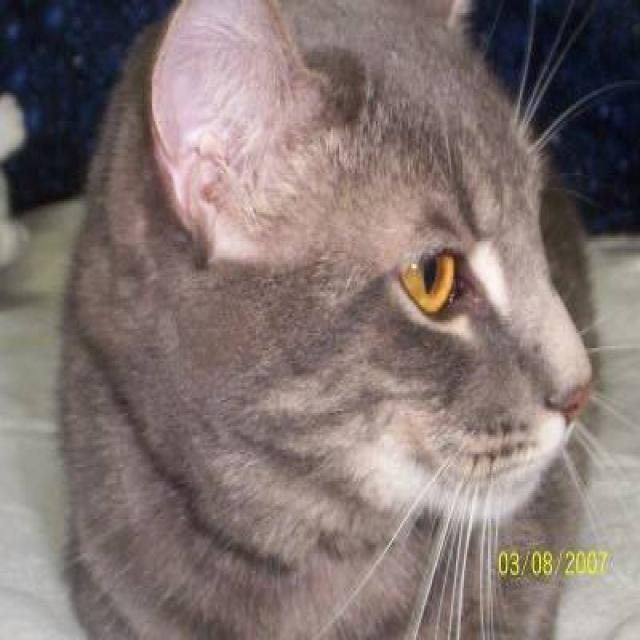cat: (51, 0, 638, 638)
